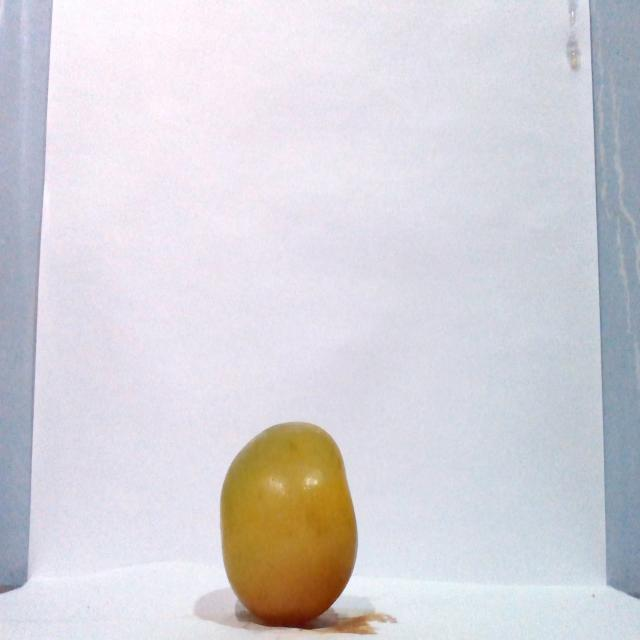Red: (218, 419, 359, 626)
